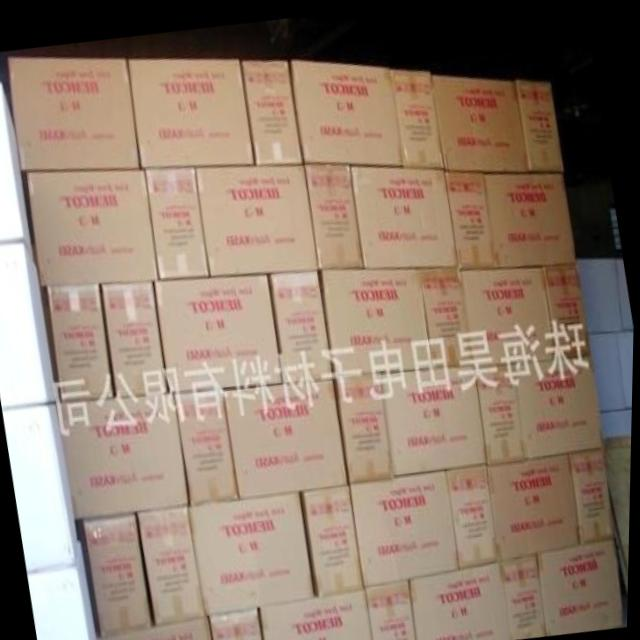box: (57, 391, 192, 517), (27, 168, 161, 285), (190, 489, 316, 611), (225, 376, 351, 497), (8, 57, 141, 171), (156, 271, 284, 389), (127, 56, 255, 167), (195, 159, 319, 273), (351, 463, 463, 583), (318, 261, 433, 372), (290, 57, 404, 161), (383, 359, 488, 471), (349, 161, 460, 263), (488, 445, 583, 556), (510, 348, 606, 453), (462, 256, 557, 359), (431, 69, 530, 166), (484, 165, 576, 261), (85, 511, 155, 637), (410, 556, 514, 640), (538, 531, 626, 628), (138, 502, 208, 623), (47, 282, 116, 401), (102, 280, 169, 396), (176, 386, 242, 502), (270, 267, 336, 380), (145, 164, 210, 277), (303, 477, 366, 592), (335, 368, 395, 477), (303, 159, 364, 265), (241, 57, 303, 161), (261, 583, 374, 640), (389, 63, 447, 163), (447, 458, 503, 561), (418, 261, 474, 361), (475, 359, 526, 459), (445, 163, 495, 263), (543, 254, 593, 351), (515, 71, 565, 166), (569, 441, 616, 536), (501, 547, 548, 633), (366, 575, 419, 640), (100, 612, 215, 640), (210, 604, 267, 640)
